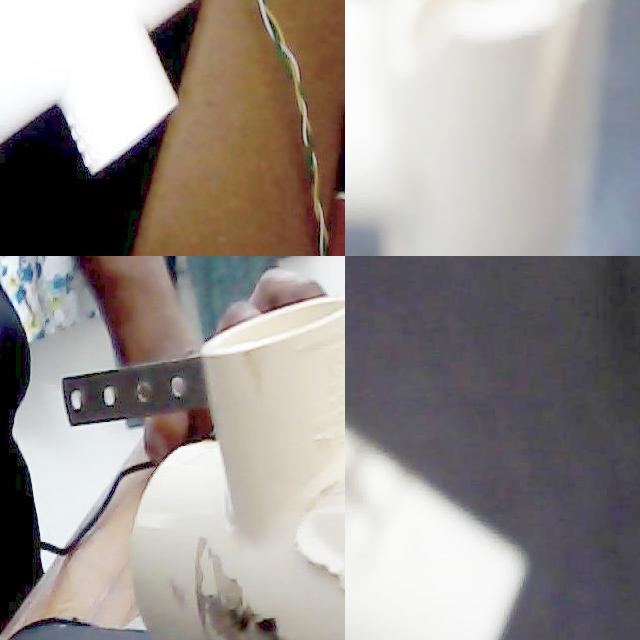Defective: (358, 0, 469, 94), (195, 541, 287, 640), (521, 0, 578, 133), (345, 427, 391, 559), (296, 513, 345, 591), (314, 411, 345, 469)
T Joint: (129, 299, 345, 640), (345, 0, 610, 256), (345, 429, 527, 640)
